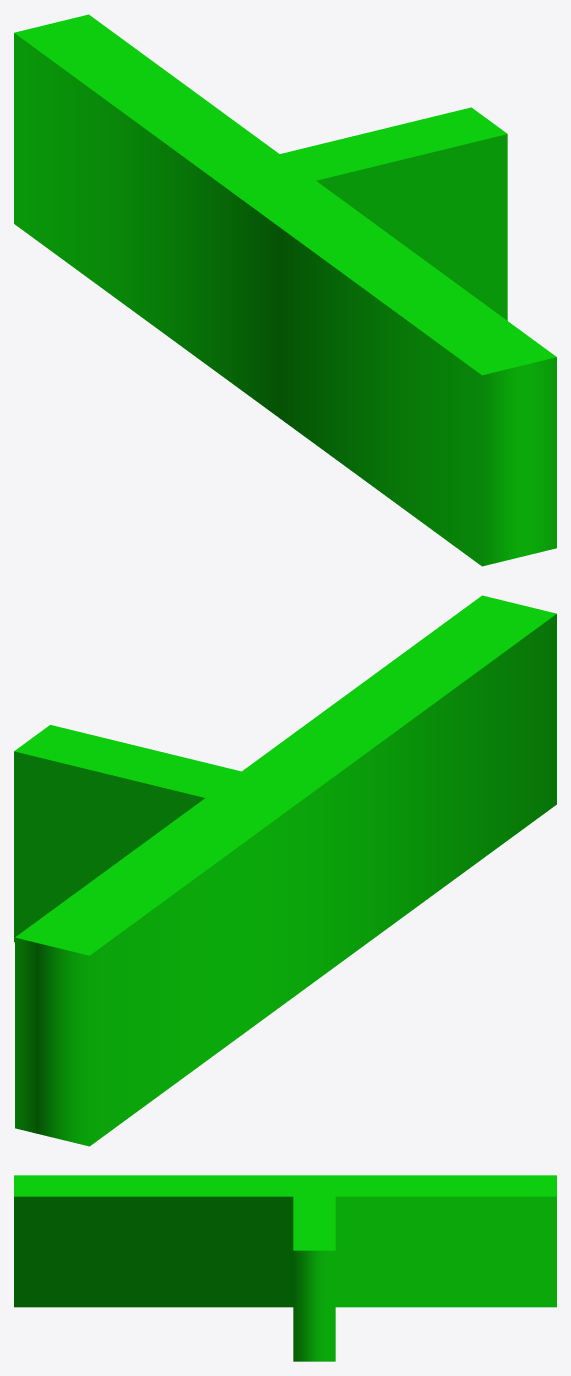
The model's file is fifth block.fbx.
3 views of the same model, one above another, from view 1: azimuth 30°, elevation 25°; view 2: azimuth 150°, elevation 25°; view 3: azimuth 270°, elevation 25° (orthographic). The views are drawn at different scales.
Parts seen in each view (by area): view 1: Text.005; view 2: Text.005; view 3: Text.005.
Boxes of the visible parts, box(x1,y1,x2,y2) form: Text.005: box(14, 14, 556, 566); Text.005: box(14, 595, 556, 1146); Text.005: box(14, 1175, 556, 1361).
Bounding box in the file's own units: 29.2 × 20 × 88.8.
